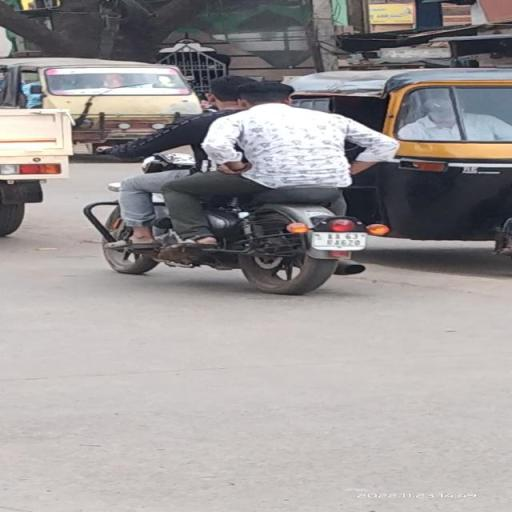bike: (76, 73, 390, 296)
numberplate: (311, 231, 366, 252)
withouthelmet: (242, 82, 293, 104), (209, 76, 244, 104)
